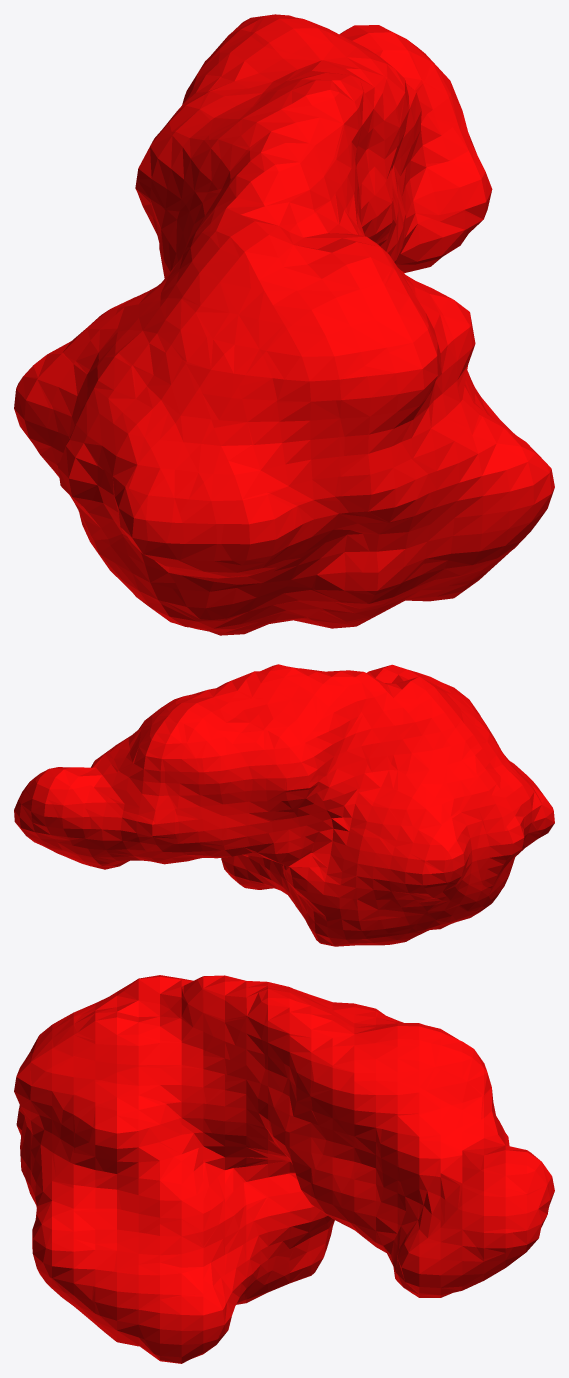
The model's file is dapE_coarse.dae.
3 views of the same model, one above another, from view 1: azimuth 30°, elevation 25°; view 2: azimuth 150°, elevation 25°; view 3: azimuth 270°, elevation 25° (orthographic). The views are drawn at different scales.
Visible parts, largest first — view 1: dapE; view 2: dapE; view 3: dapE.
Boxes of the visible parts, x1,y1,x2,y2 form: dapE: (14, 14, 554, 635); dapE: (14, 664, 554, 946); dapE: (14, 975, 554, 1363).
Size of the model in its own units: 71.43 by 50.91 by 73.04.
